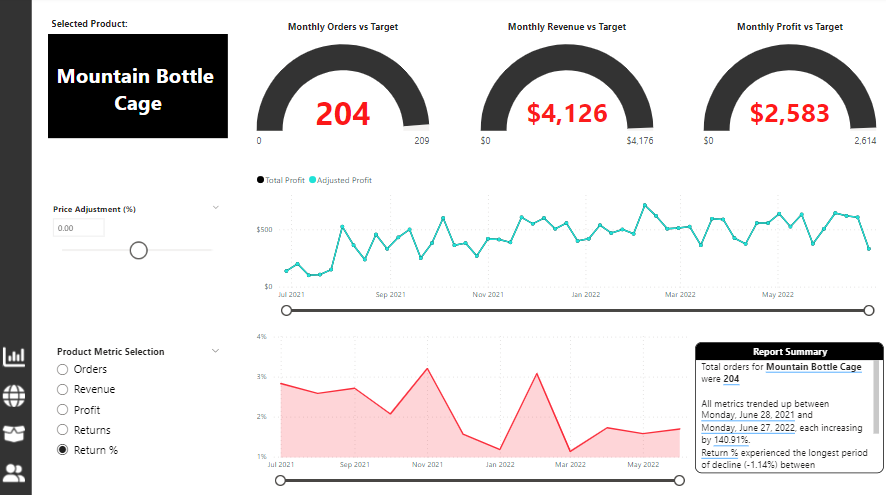

The dashboard page shown, as its layout file describes it:
{"tool":"powerbi","page":{"name":"Product Details","canvas":[1280,720],"ordinal":2},"visuals":[{"type":"shape","box":[0,0,45.7,720],"z":0},{"type":"gauge","title":"Monthly Orders vs Target","fields":{"Y":["Measure Table.Total Orders"],"MaxValue":["Measure Table.Order Target"]},"box":[364.3,33.1,259.2,204.5],"z":1000},{"type":"actionButton","box":[0,498.2,46.1,40.3],"z":1000,"group":"g1"},{"type":"gauge","title":"Monthly Revenue vs Target","fields":{"Y":["Measure Table.Total Revenue"],"MaxValue":["Measure Table.Revenue Target"]},"box":[686.9,33.1,259.2,204.5],"z":2000},{"type":"actionButton","box":[0,553.9,46.1,40.3],"z":2000,"group":"g1"},{"type":"gauge","title":"Monthly Profit vs Target","fields":{"Y":["Measure Table.Total Profit"],"MaxValue":["Measure Table.Profit Target"]},"box":[1008,33.1,259.2,204.5],"z":3000},{"type":"actionButton","box":[0,609.6,46.1,40.3],"z":3000,"group":"g1"},{"type":"lineChart","title":"Profit Trending","fields":{"Category":["Calendar Lookup.Date Hierarchy.Start of Year","Calendar Lookup.Date Hierarchy.Start of Month","Calendar Lookup.Date Hierarchy.Start of Week","Calendar Lookup.Date Hierarchy.Date"],"Y":["Measure Table.Total Profit","Measure Table.Adjusted Profit"]},"box":[364.3,243.4,915.8,218.9],"z":4000},{"type":"actionButton","box":[0,665.2,46.1,40.3],"z":4000,"group":"g1"},{"type":"areaChart","title":"Returns Trending","fields":{"Y":["Measure Table.Return Rate"],"Category":["Calendar Lookup.Date Hierarchy.Start of Year","Calendar Lookup.Date Hierarchy.Start of Month","Calendar Lookup.Date Hierarchy.Start of Week","Calendar Lookup.Date Hierarchy.Date"]},"box":[364.3,475.2,643.7,231.8],"z":5000},{"type":"card","fields":{"Values":["Min(Product Lookup.ProductName)"]},"box":[69.1,53.3,259.2,149.8],"z":6000},{"type":"textbox","box":[69.1,24.5,129.6,28.8],"z":7000},{"type":"group","id":"g1","title":"Navigation Buttons","box":[0,498.2,46.1,207.4],"z":8000},{"type":"slicer","fields":{"Values":["Price Adjustment (%).Price Adjustment (%)"]},"box":[63.4,290.9,265,122.4],"z":9000},{"type":"slicer","fields":{"Values":["Product Metric Selection.Product Metric Selection"]},"box":[69.1,496.8,259.2,188.6],"z":10000},{"type":"textbox","title":"Report Summary","box":[1000.8,496.8,272.2,188.6],"z":11000}]}

Visuals, with their boxes on the page's 1280x720 design canvas (x1, y1, x2, y2). These are canvas units, not pixel positions in the 886x495 screenshot, which may show the page scaled, cropped or inside an application window:
shape: rect(0, 0, 46, 720)
"Monthly Orders vs Target" gauge: rect(364, 33, 624, 238)
actionButton: rect(0, 498, 46, 538)
"Monthly Revenue vs Target" gauge: rect(687, 33, 946, 238)
actionButton: rect(0, 554, 46, 594)
"Monthly Profit vs Target" gauge: rect(1008, 33, 1267, 238)
actionButton: rect(0, 610, 46, 650)
"Profit Trending" lineChart: rect(364, 243, 1280, 462)
actionButton: rect(0, 665, 46, 706)
"Returns Trending" areaChart: rect(364, 475, 1008, 707)
card - Min(Product Lookup.ProductName): rect(69, 53, 328, 203)
textbox: rect(69, 24, 199, 53)
"Navigation Buttons" group: rect(0, 498, 46, 706)
slicer - Price Adjustment (%).Price Adjustment (%): rect(63, 291, 328, 413)
slicer - Product Metric Selection.Product Metric Selection: rect(69, 497, 328, 685)
"Report Summary" textbox: rect(1001, 497, 1273, 685)
